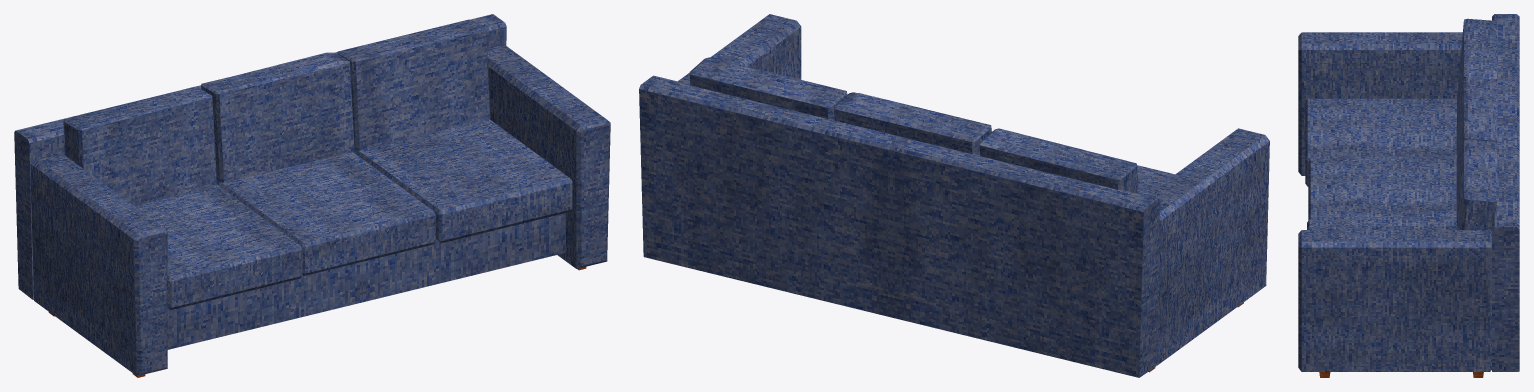
The model's file is couch_large_blue.glb.
3 views of the same model, side by side, from view 1: azimuth 30°, elevation 25°; view 2: azimuth 150°, elevation 25°; view 3: azimuth 270°, elevation 25° (orthographic). The views are drawn at different scales.
Visible parts, largest first — view 1: couch_large_blue; view 2: couch_large_blue; view 3: couch_large_blue.
Part boxes in pixels (x1,y1,x2,y2): couch_large_blue: (14, 14, 610, 377); couch_large_blue: (639, 14, 1269, 377); couch_large_blue: (1298, 14, 1519, 377).
Bounding box in the file's own units: 3.16 × 1.19 × 1.39.
Materials: 1 (1 with a texture image).
